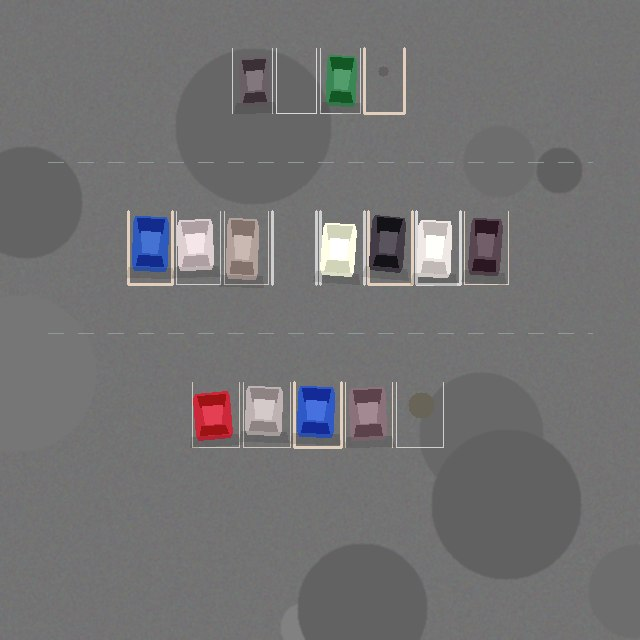space-empty: (272, 211, 316, 284), (396, 382, 443, 447), (276, 48, 316, 113), (364, 48, 404, 113)
space-occupied: (128, 211, 172, 284), (176, 211, 220, 284), (224, 211, 268, 284), (320, 211, 364, 284), (368, 211, 412, 284), (416, 211, 460, 284), (464, 211, 508, 284), (192, 382, 239, 447), (243, 382, 290, 447), (294, 382, 341, 447), (345, 382, 392, 447), (232, 48, 272, 113), (320, 48, 360, 113)
